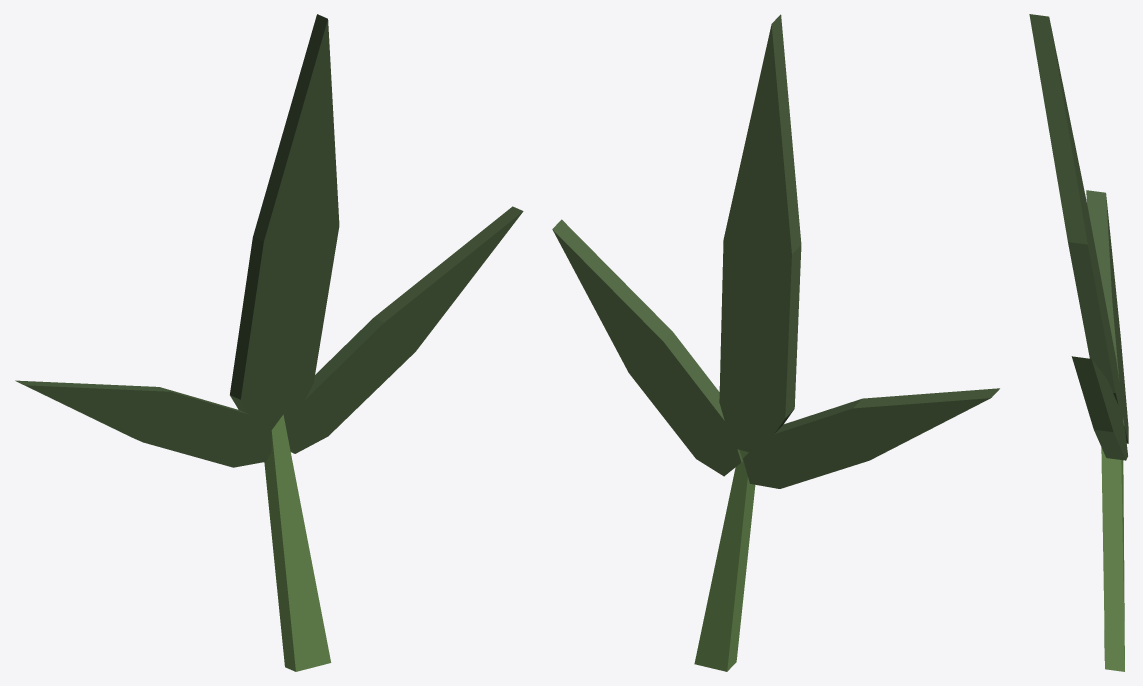
File: bamboo_1.gltf
3 renders of one model, left to right at view 1: azimuth 30°, elevation 25°; view 2: azimuth 150°, elevation 25°; view 3: azimuth 270°, elevation 25°, orthographic. The views are drawn at different scales.
Parts seen in each view (by area): view 1: bamboo_1; view 2: bamboo_1; view 3: bamboo_1.
Part boxes in pixels (x1,y1,x2,y2): bamboo_1: (15,14,523,671); bamboo_1: (552,14,999,671); bamboo_1: (1029,14,1128,671).
Bounding box in the file's own units: 0.3829 × 0.5129 × 0.0723.
Materials: 1 (1 with a texture image).
